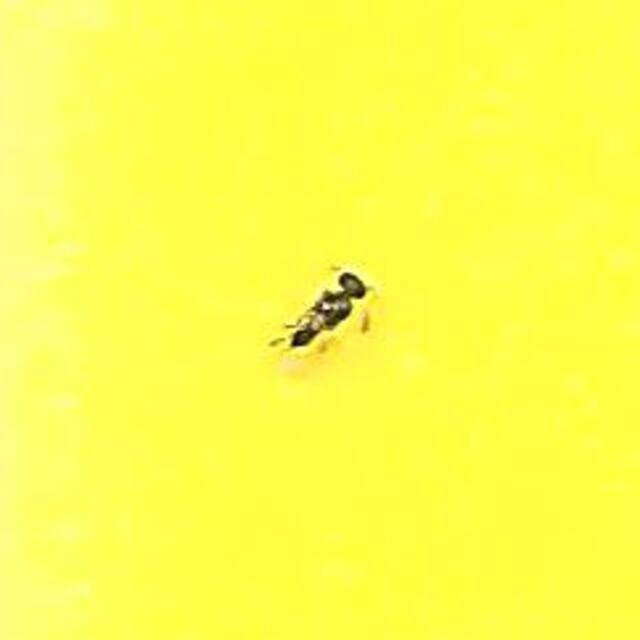Hymenoptera: (264, 262, 376, 378)
